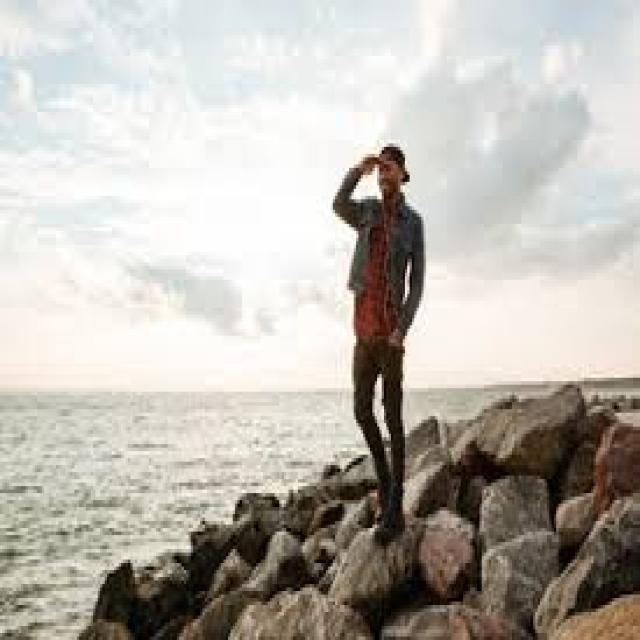cap: (380, 140, 414, 199)
